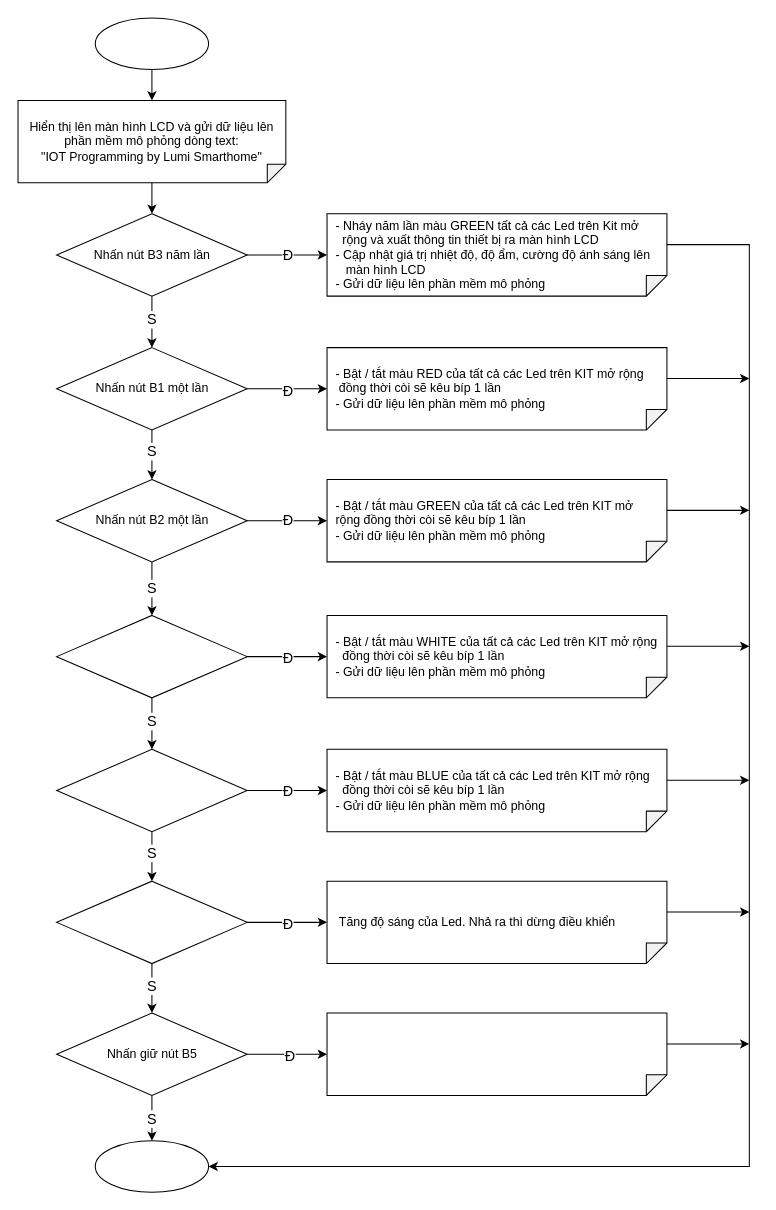
Some shapes in this 776 by 1210 pixel diagram are drawn without their labels. The box of each missing label's shape, as (x1, y1, x2, y2) in pixels:
END: (94, 1140, 209, 1192)
Giảm độ sáng của Led. Nhả ra thì dừng điều khiển: (326, 1012, 667, 1095)
Nhấn giữ nút B1: (56, 880, 247, 964)
Nhấn nút B4 một lần: (56, 614, 247, 698)
Nhấn nút B5 một lần: (56, 748, 247, 832)
START: (94, 17, 209, 70)
